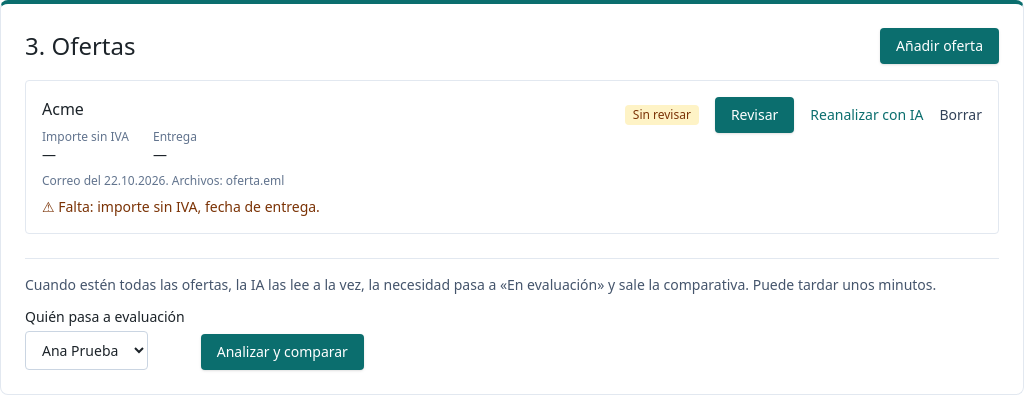
Test: SeccionOfertas › no deja borrar la oferta que está leyendo la IA
Click the button with aria-label "Reanalizar con IA la oferta de Acme" at [867, 115], box [810,105,924,125]
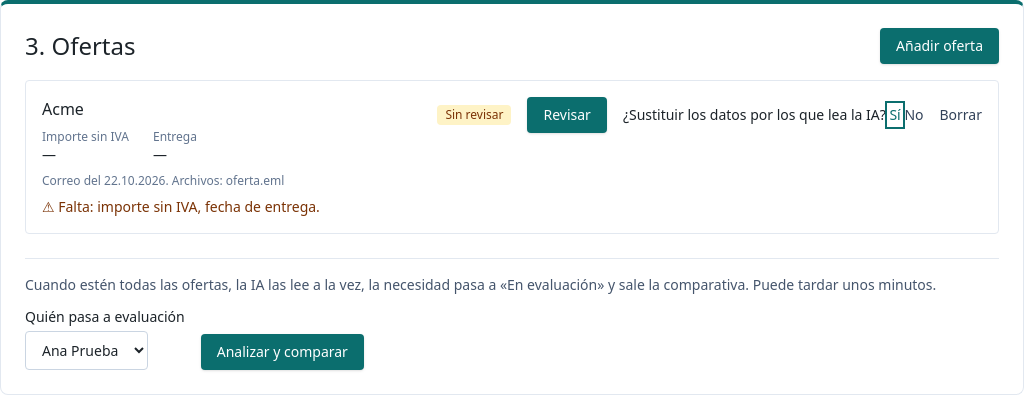
Click the button with aria-label "Sí, reanalizar la oferta de Acme" at [895, 115], box [889,105,901,125]
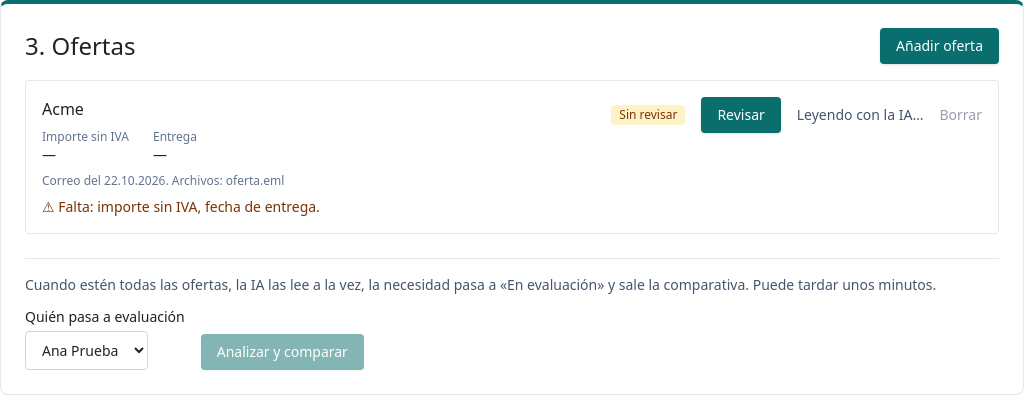
Result: the text "Leyendo con la IA…" is shown at [797,105,924,125]
Result: the button with aria-label "Borrar la oferta de Acme" is disabled at [940,105,982,125]
